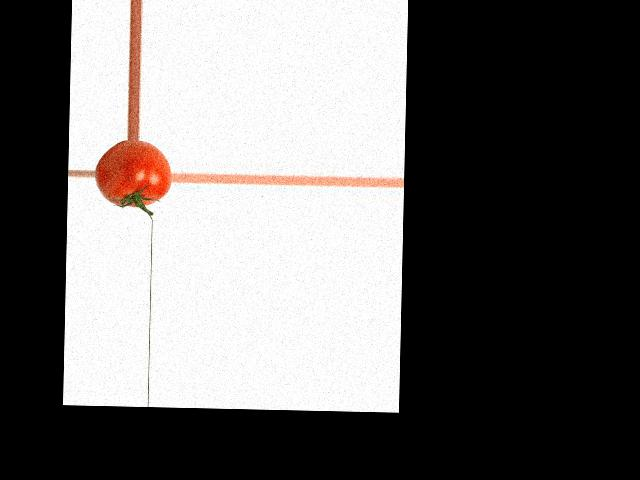tomato: (93, 140, 172, 208)
